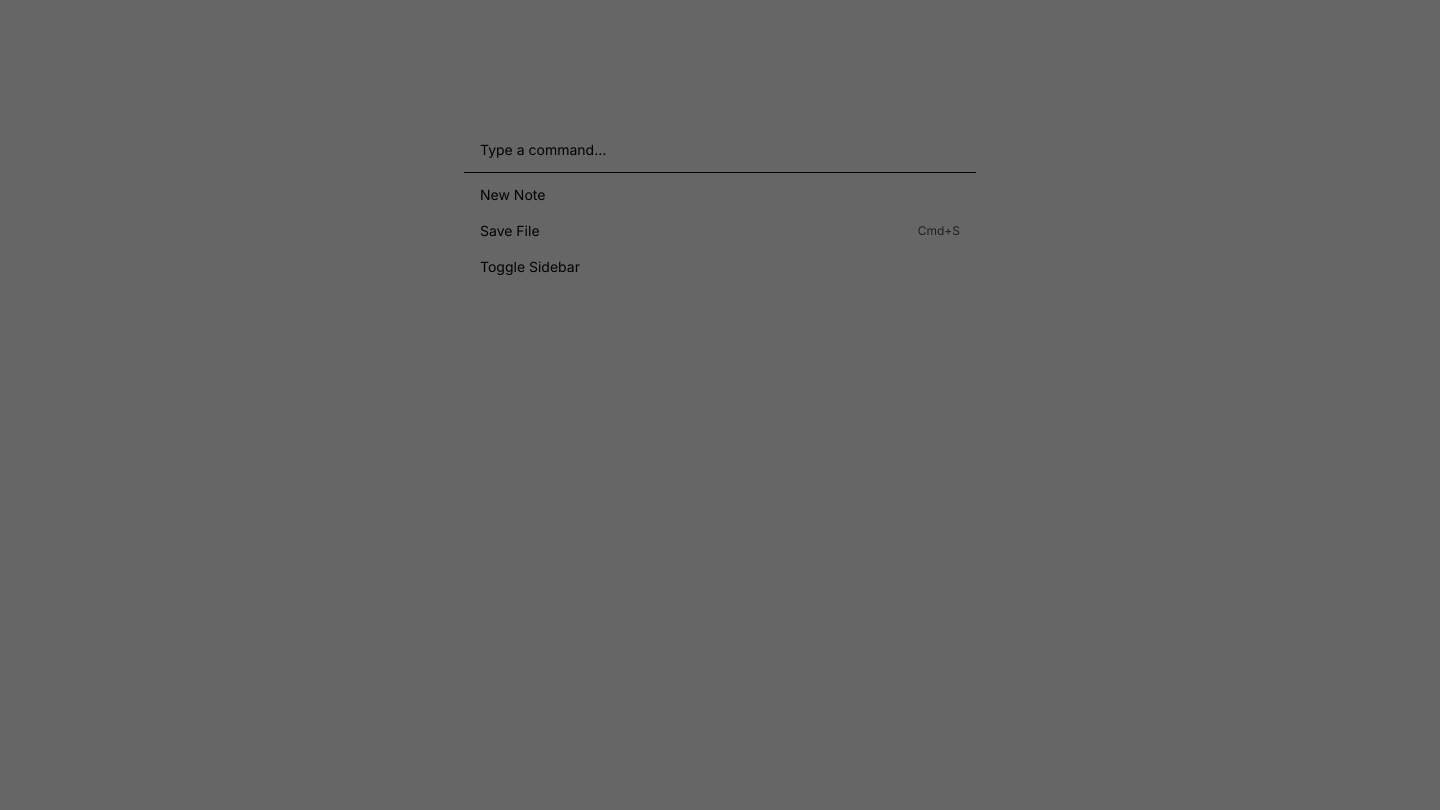
Test: CommandPalette › filters by label substring
This screenshot has width=1440, height=810.
Type "save" into the field.
click(720, 150); type("save")  # box [464, 128, 976, 173]
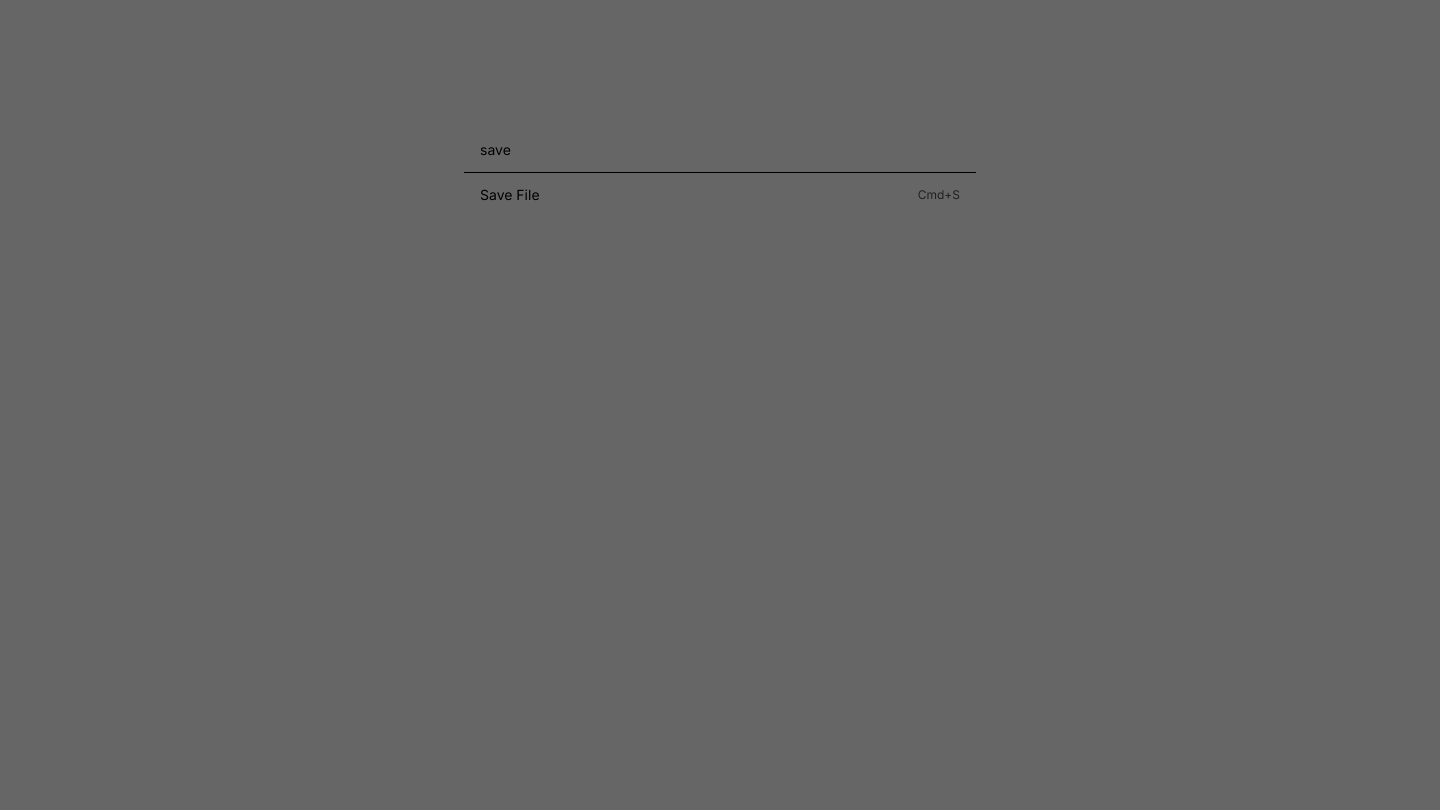
Check: the text "Save File" is shown, box [480, 185, 540, 205]
Check: the text "Toggle Sidebar" is gone
